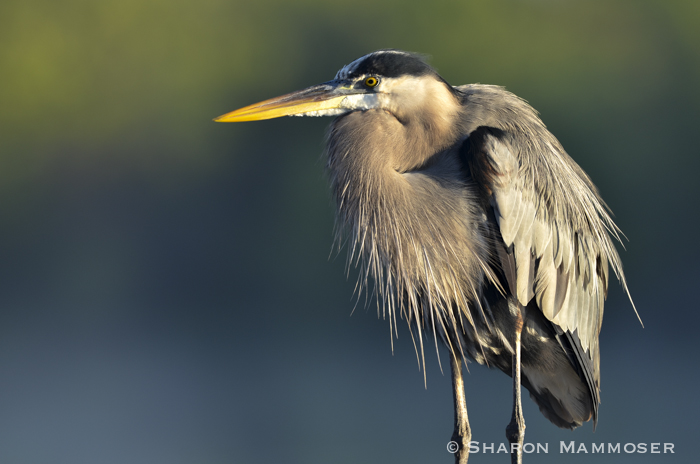heron: (209, 46, 639, 438)
